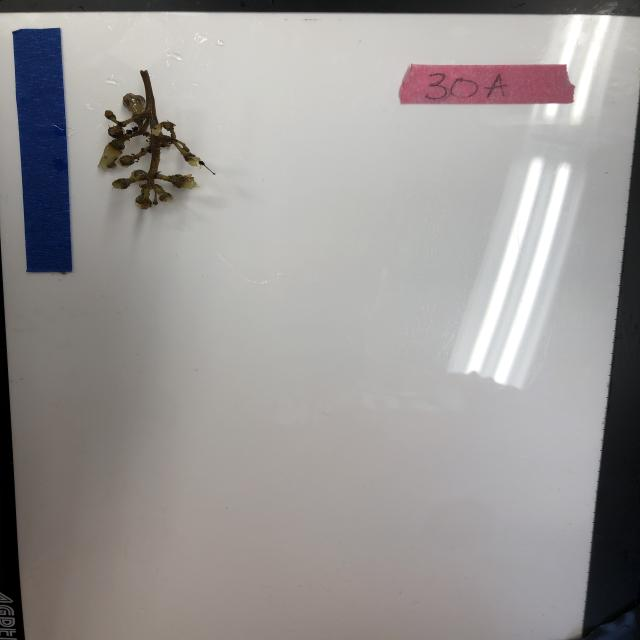index: (396, 60, 579, 105)
measure_label: (12, 26, 74, 275)
rachis_cluster: (100, 68, 219, 210)
